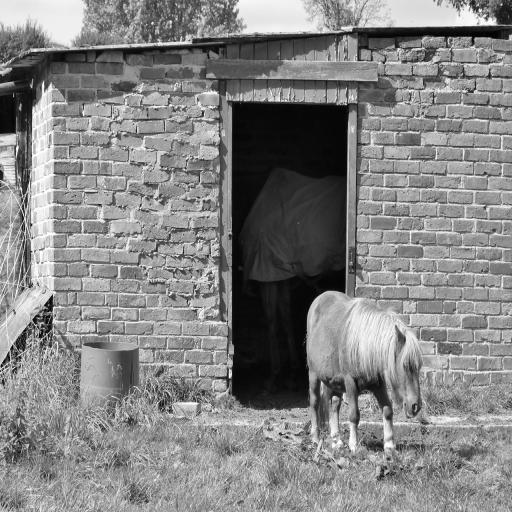horse: (306, 292, 424, 457)
